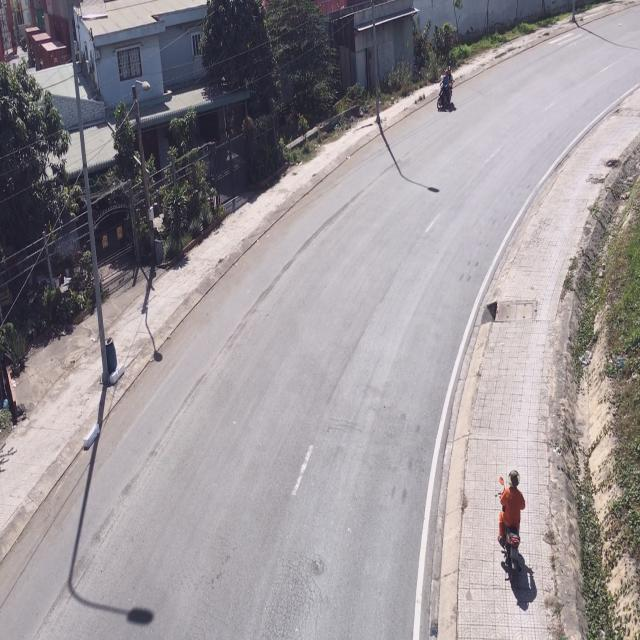motorbike: (495, 468, 526, 578), (437, 68, 456, 116)
